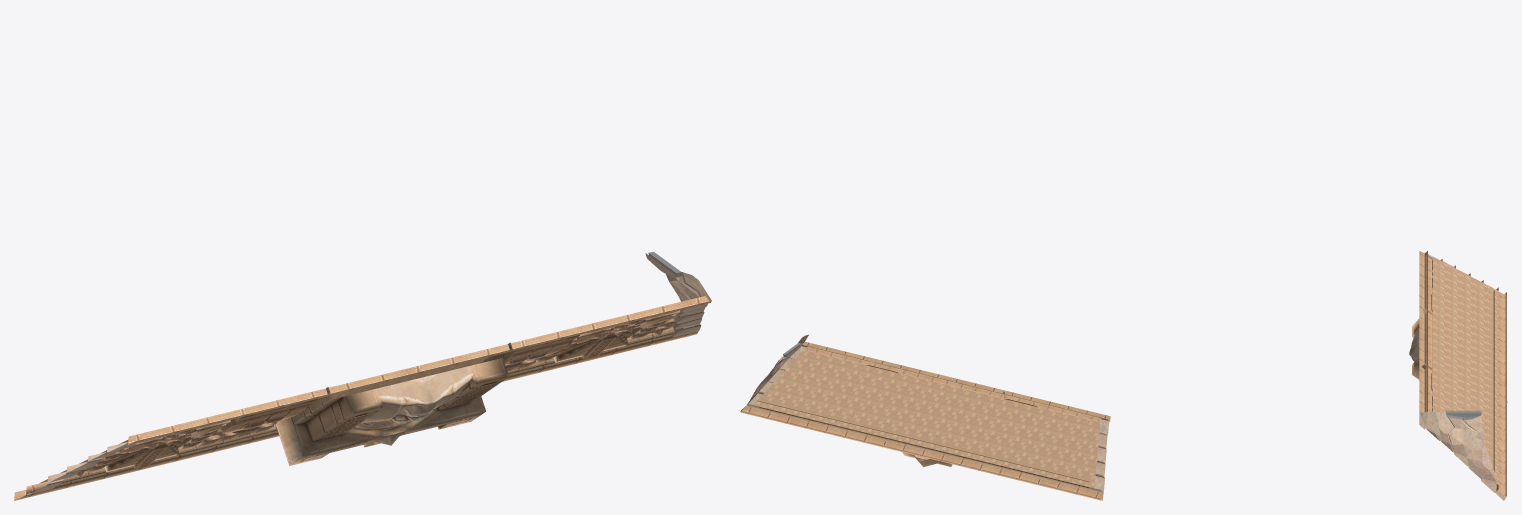
The model's file is VisibleParts002.obj.
3 views of the same model, side by side, from view 1: azimuth 30°, elevation 25°; view 2: azimuth 150°, elevation 25°; view 3: azimuth 270°, elevation 25° (orthographic). The views are drawn at different scales.
Parts seen in each view (by area): view 1: Hand020__ReliefStonePattern07, ReliefStonePattern09_01__ReliefStonePattern09, pCube4905_1__BlockStoneBase02, Wall__StoneBrick00; view 2: Wall__StoneBrick00, Hand020__ReliefStonePattern07, pCube4905_1__BlockStoneBase02; view 3: Wall__StoneBrick00, Hand020__ReliefStonePattern07, pCube4905_1__BlockStoneBase02, ReliefStonePattern09_01__ReliefStonePattern09.
Boxes of the visible parts, <box> form: Hand020__ReliefStonePattern07: <box>14,296,711,500</box>; ReliefStonePattern09_01__ReliefStonePattern09: <box>275,342,514,465</box>; pCube4905_1__BlockStoneBase02: <box>26,253,711,494</box>; Wall__StoneBrick00: <box>39,310,680,483</box>; Wall__StoneBrick00: <box>753,350,1100,488</box>; Hand020__ReliefStonePattern07: <box>740,341,1110,500</box>; pCube4905_1__BlockStoneBase02: <box>741,334,1109,491</box>; Wall__StoneBrick00: <box>1432,257,1498,484</box>; Hand020__ReliefStonePattern07: <box>1419,251,1506,496</box>; pCube4905_1__BlockStoneBase02: <box>1419,254,1506,500</box>; ReliefStonePattern09_01__ReliefStonePattern09: <box>1409,308,1507,402</box>.
Size of the model in its own units: 5849 by 5250 by 4406.
6 materials, 4 textured.
